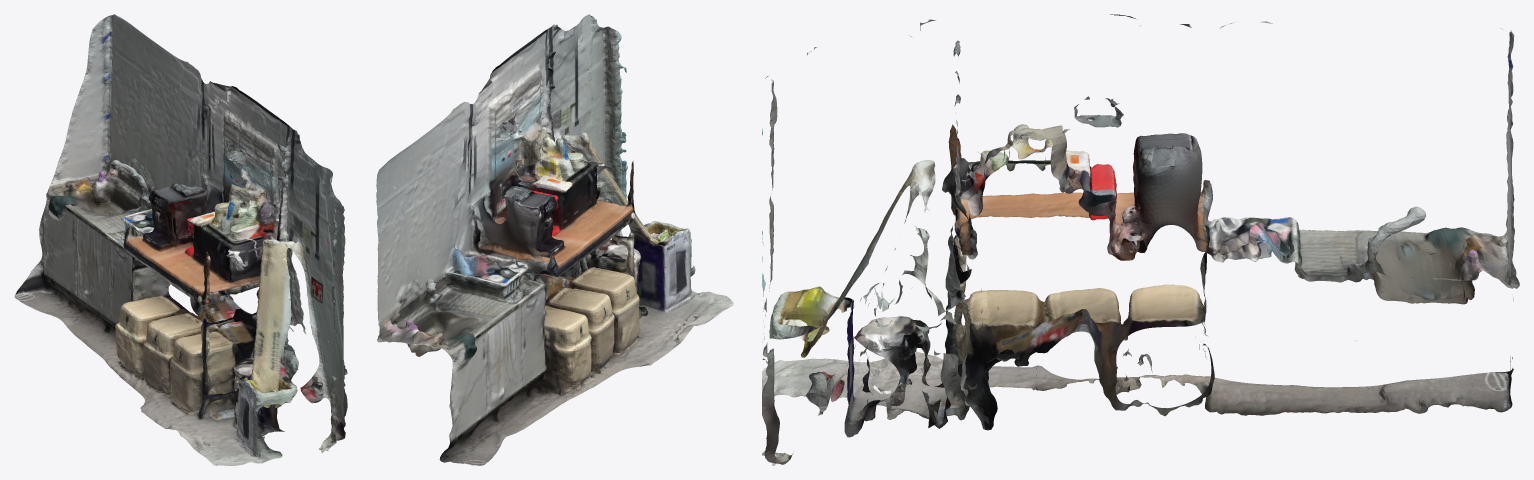
3 renders of one model, left to right at view 1: azimuth 30°, elevation 25°; view 2: azimuth 150°, elevation 25°; view 3: azimuth 270°, elevation 25°, orthographic. The views are drawn at different scales.
Bounding box in the file's own units: 1.02 × 2.1 × 3.12.
1 material, 1 textured.
